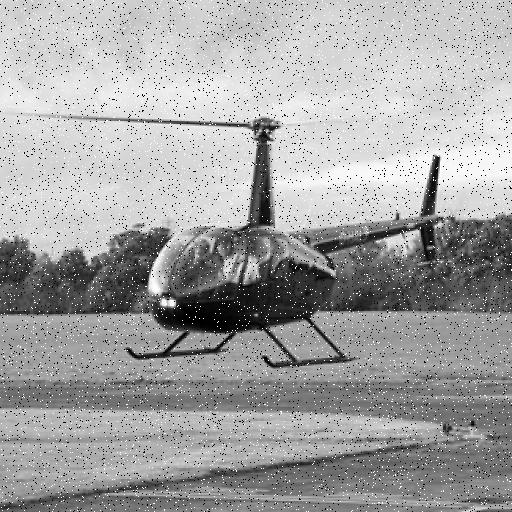helicopter: (3, 113, 449, 372)
